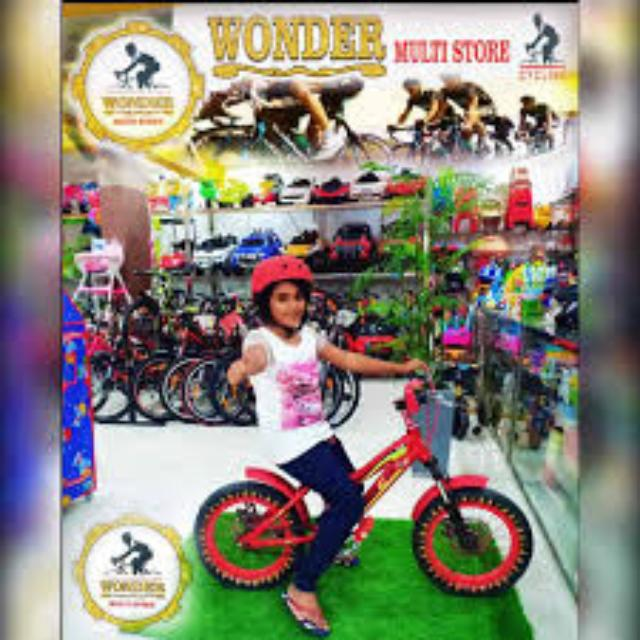obstacle: (206, 405, 530, 607)
